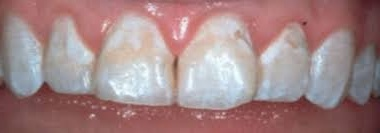Tooth Discoloration: (43, 14, 312, 88)
